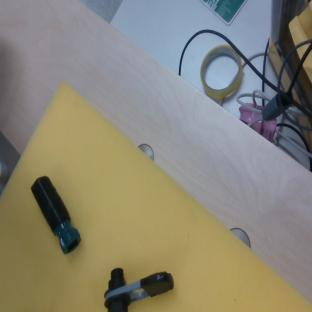part_1_bad: (103, 267, 175, 312)
part_2_bad: (27, 173, 85, 255)
